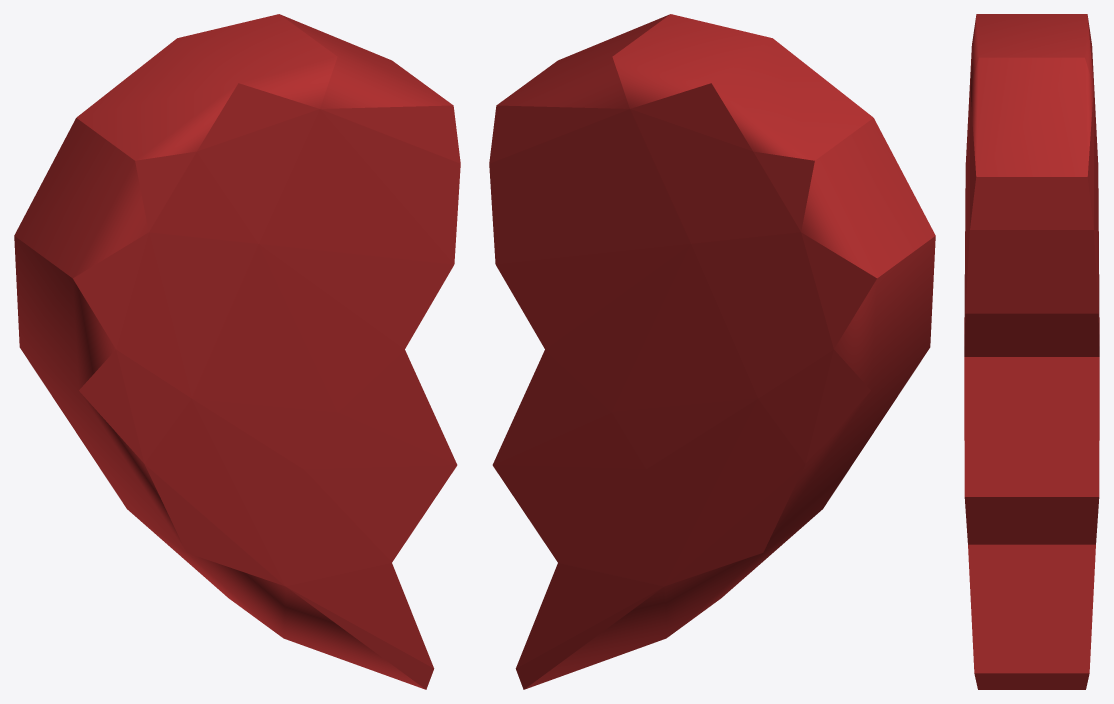
File: heartnew2.fbx
The picture shows the model from 3 angles, left to right: view 1: azimuth 30°, elevation 25°; view 2: azimuth 150°, elevation 25°; view 3: azimuth 270°, elevation 25°; orthographic projection. The views are drawn at different scales.
Visible parts, largest first — view 1: polySurface2; view 2: polySurface2; view 3: polySurface2.
Part boxes in pixels (<box>): polySurface2: <box>14,14,460,689</box>; polySurface2: <box>489,14,935,689</box>; polySurface2: <box>964,14,1099,689</box>.
Bounding box in the file's own units: 4.05 × 6.61 × 1.37.
